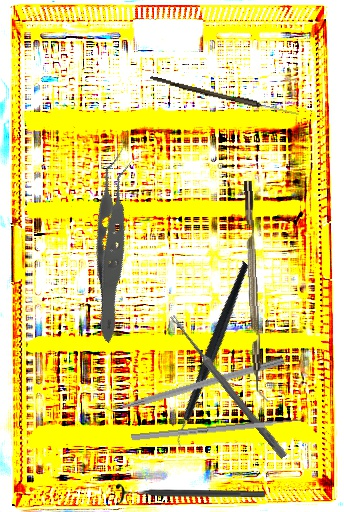Chopper: (120, 259, 308, 456), (97, 347, 285, 417), (244, 180, 271, 403)
Fixation Ring: (116, 483, 265, 506)
Pusher: (131, 415, 311, 442)
Surgical Spoon: (167, 313, 289, 460), (149, 75, 300, 118)
Tissue Forceps: (25, 144, 207, 344)
